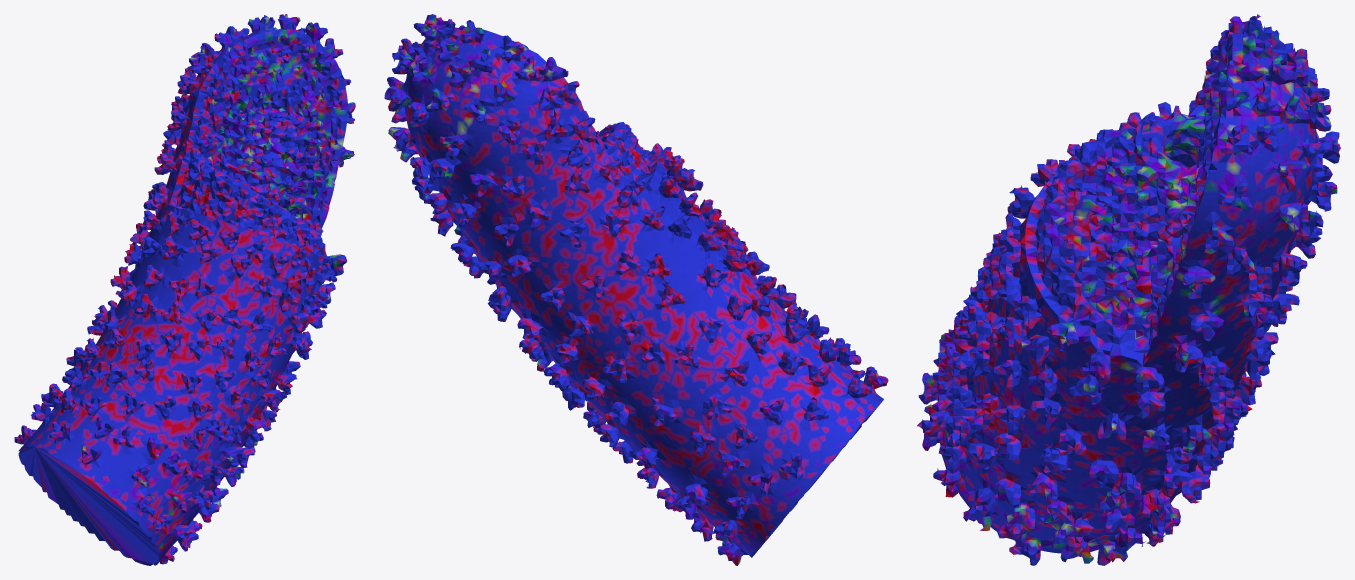
File: ebola-virion.converted.glb
3 renders of one model, left to right at view 1: azimuth 30°, elevation 25°; view 2: azimuth 150°, elevation 25°; view 3: azimuth 270°, elevation 25°, orthographic. The views are drawn at different scales.
Bounding box in the file's own units: 18.58 × 22.14 × 12.92.
